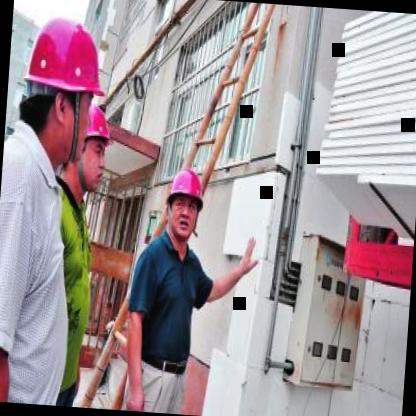helmet: (16, 6, 113, 175), (160, 160, 210, 250), (76, 98, 116, 190)
